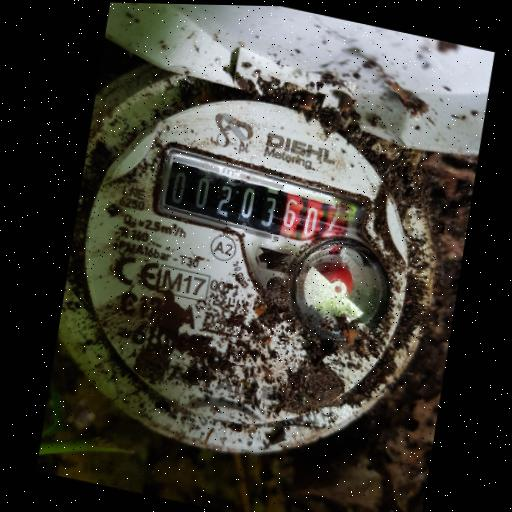0: (296, 199, 333, 249), (162, 161, 198, 211), (185, 168, 221, 218), (231, 179, 267, 229)
2: (208, 174, 244, 224)
3: (255, 186, 291, 236)
6: (277, 193, 310, 242)
7: (324, 205, 354, 243)
border_water_meter_number: (145, 138, 378, 268)
